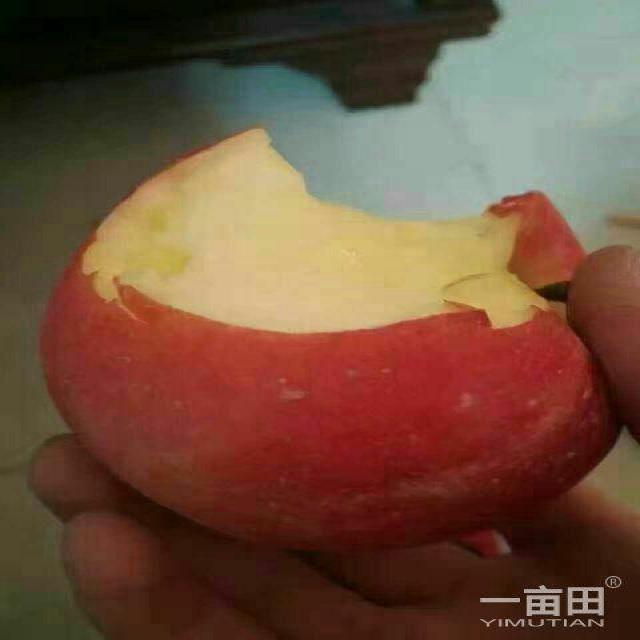Rotten: (38, 122, 636, 548)
